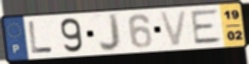6: (127, 13, 154, 50)
9: (60, 17, 85, 54)
E: (189, 8, 225, 46)
J: (97, 13, 122, 54)
L: (27, 20, 55, 54)
V: (157, 8, 190, 49)
